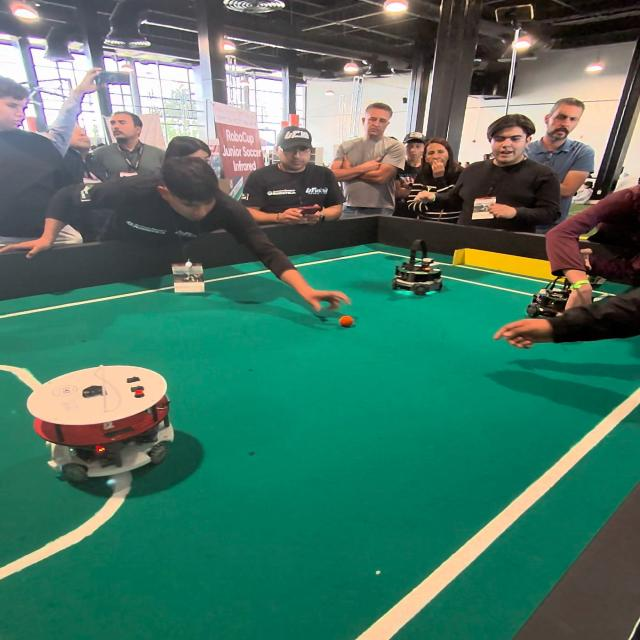Robot: (19, 350, 204, 497), (393, 241, 445, 301), (527, 272, 579, 324)
pelota: (340, 316, 354, 327)
